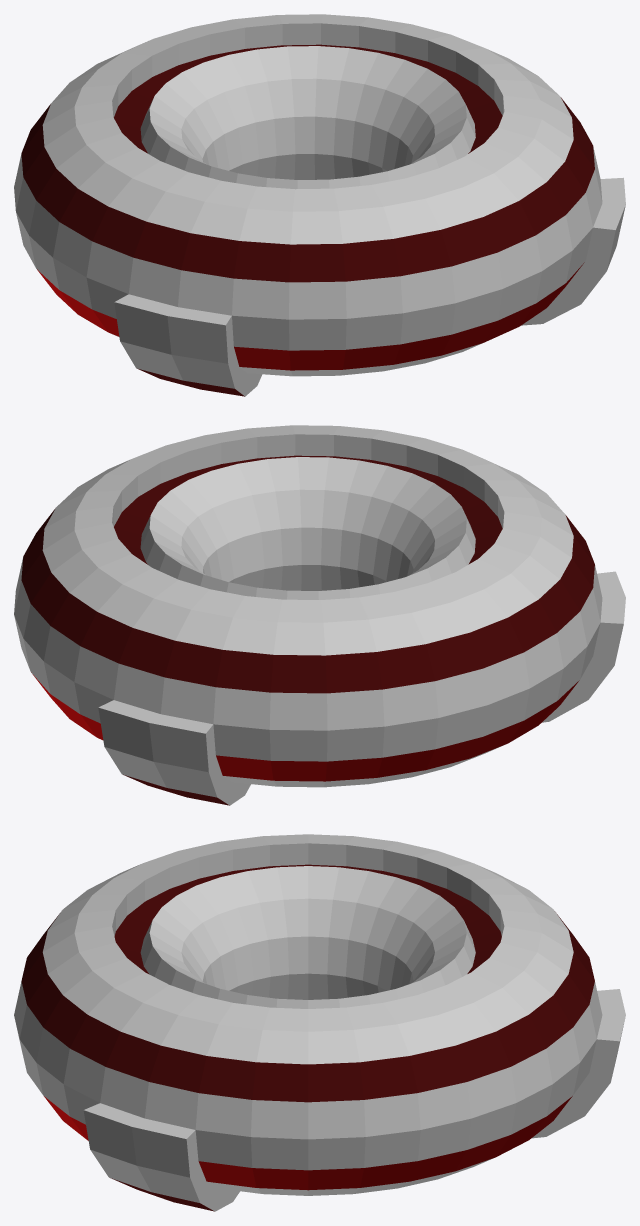
Rendered from Ring.fbx.
The picture shows the model from 3 angles, top to bottom: view 1: azimuth 30°, elevation 25°; view 2: azimuth 150°, elevation 25°; view 3: azimuth 270°, elevation 25°; orthographic projection.
Visible parts, largest first — view 1: b; view 2: b; view 3: b.
Part boxes in pixels (bbox=[...]): b: bbox=[14, 14, 625, 396]; b: bbox=[14, 425, 625, 805]; b: bbox=[14, 834, 625, 1211].
Bounding box in the file's own units: 300 × 112 × 312.
